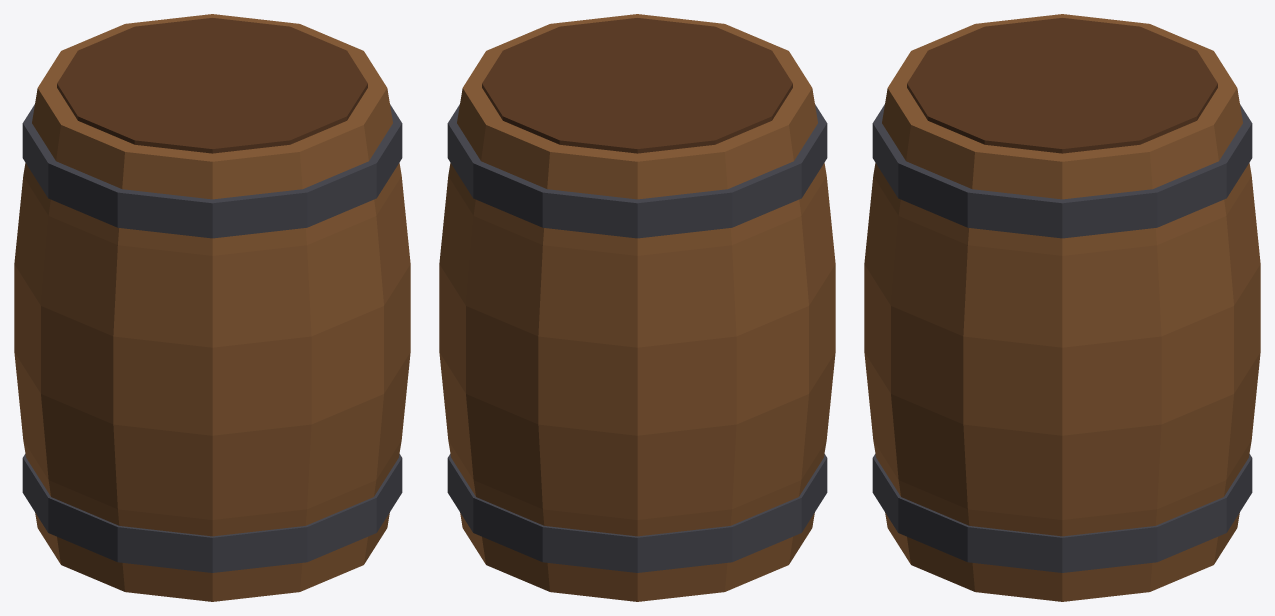
File: Barrel.glb
3 renders of one model, left to right at view 1: azimuth 30°, elevation 25°; view 2: azimuth 150°, elevation 25°; view 3: azimuth 270°, elevation 25°, orthographic.
Parts seen in each view (by area): view 1: Barrel; view 2: Barrel; view 3: Barrel.
Part boxes in pixels (left/top/right/bottom): Barrel: left=14, top=14, right=410, bottom=601; Barrel: left=439, top=14, right=835, bottom=601; Barrel: left=864, top=14, right=1260, bottom=601.
Size of the model in its own units: 0.8159 by 1.01 by 0.8159.
Materials: 1 (1 with a texture image).
